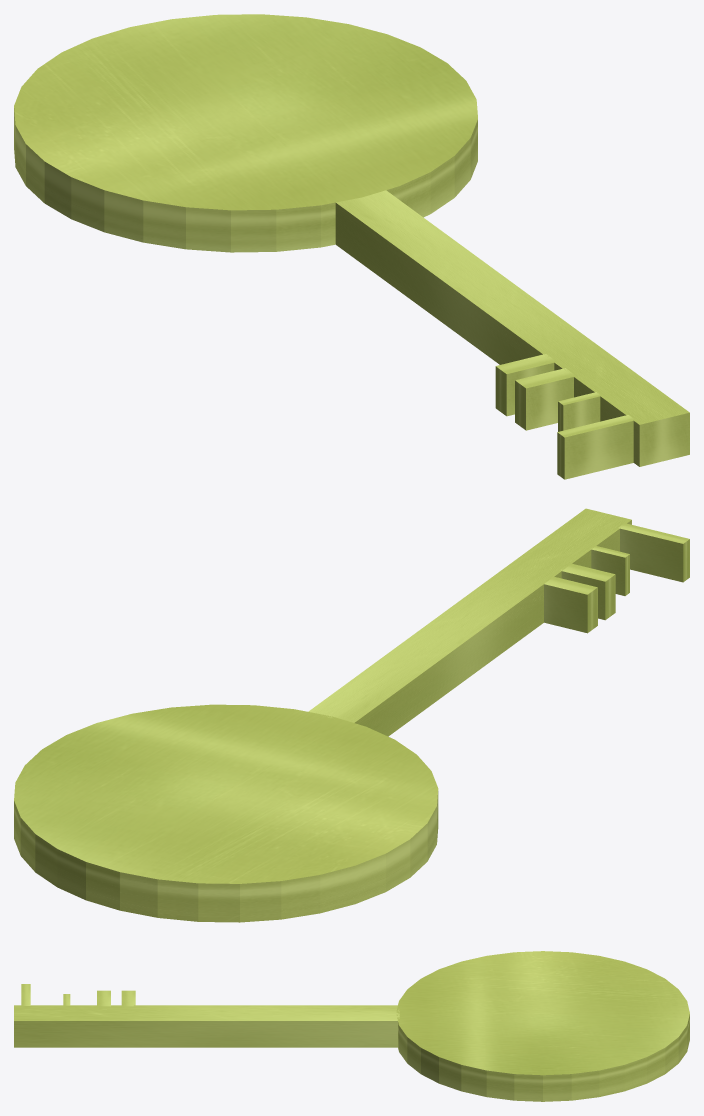
The model's file is yellow_key.fbx.
The picture shows the model from 3 angles, top to bottom: view 1: azimuth 30°, elevation 25°; view 2: azimuth 150°, elevation 25°; view 3: azimuth 270°, elevation 25°; orthographic projection. The views are drawn at different scales.
Visible parts, largest first — view 1: Cube.001; view 2: Cube.001; view 3: Cube.001.
Boxes of the visible parts, <box> form: Cube.001: <box>14,14,689,479</box>; Cube.001: <box>14,508,689,922</box>; Cube.001: <box>14,951,689,1101</box>.
Bounding box in the file's own units: 200 × 20 × 460.
